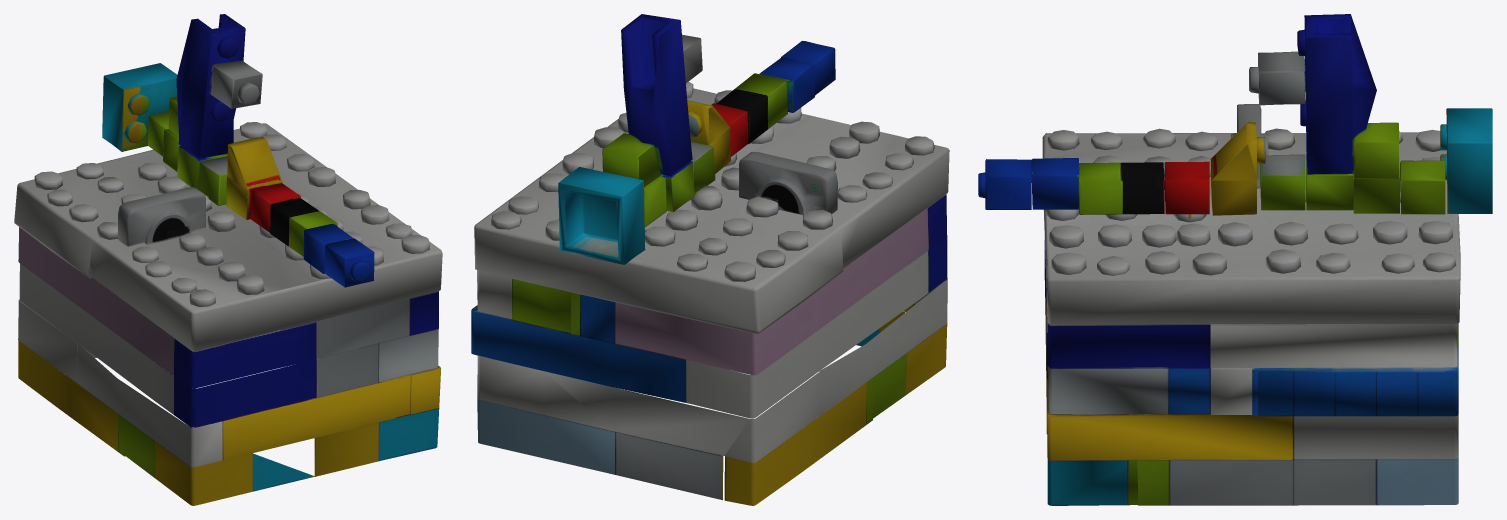
File: object_20_asset_5a0a2d7a.glb
3 views of the same model, side by side, from view 1: azimuth 30°, elevation 25°; view 2: azimuth 150°, elevation 25°; view 3: azimuth 270°, elevation 25° (orthographic). The views are drawn at different scales.
Visible parts, largest first — view 1: tripo_node_f68bb63f-a77b-4822-a3c8-3b5ebe5e8e6d; view 2: tripo_node_f68bb63f-a77b-4822-a3c8-3b5ebe5e8e6d; view 3: tripo_node_f68bb63f-a77b-4822-a3c8-3b5ebe5e8e6d.
Boxes of the visible parts, left/top/right/bottom form: tripo_node_f68bb63f-a77b-4822-a3c8-3b5ebe5e8e6d: left=14, top=14, right=442, bottom=505; tripo_node_f68bb63f-a77b-4822-a3c8-3b5ebe5e8e6d: left=471, top=14, right=949, bottom=505; tripo_node_f68bb63f-a77b-4822-a3c8-3b5ebe5e8e6d: left=978, top=14, right=1492, bottom=505.
Size of the model in its own units: 0.6777 by 0.9082 by 0.998.
1 material, 1 textured.
